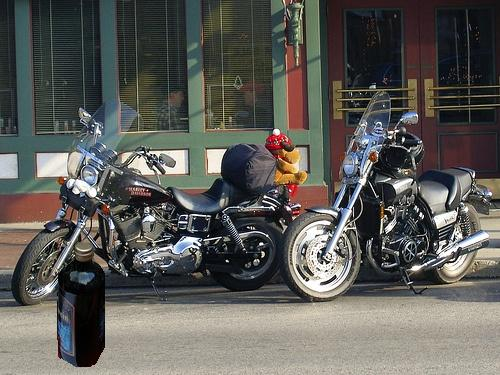tampered: (58, 243, 105, 367)
